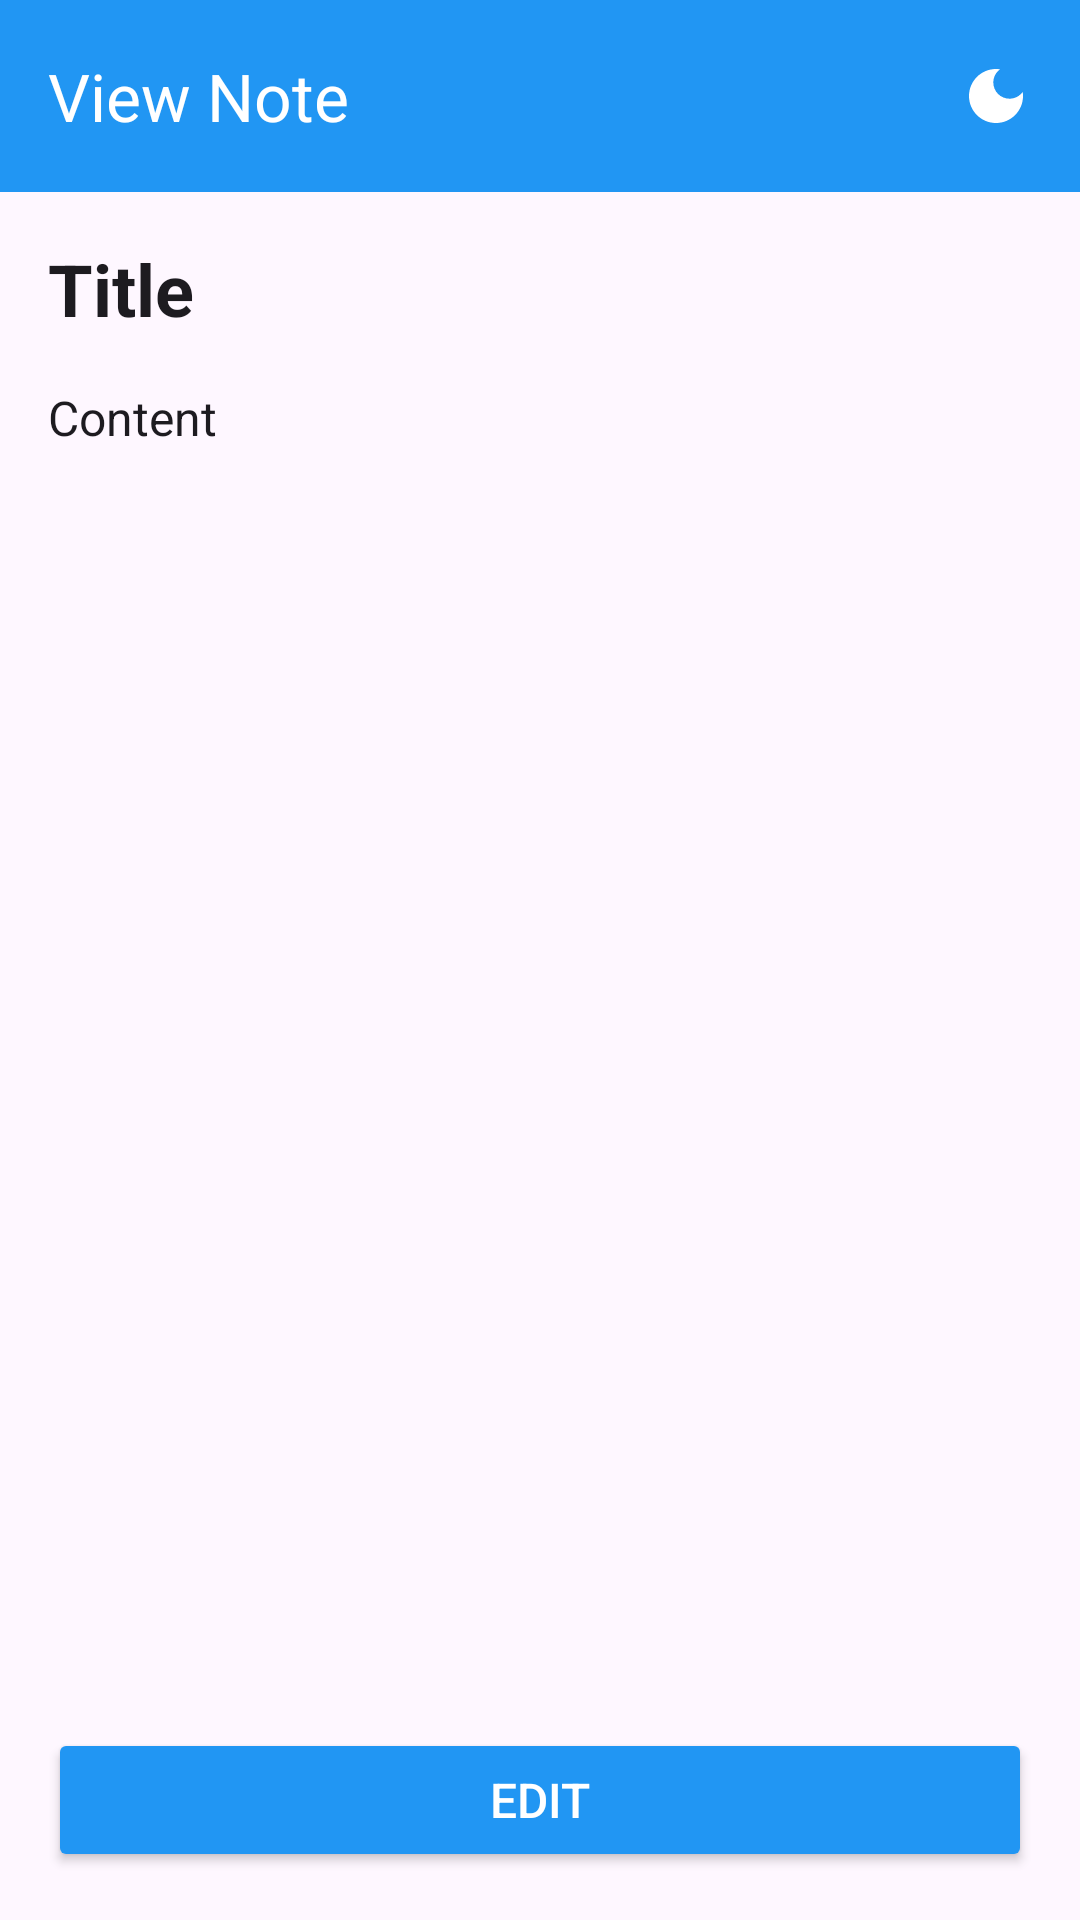

Icons on this 1080w x 1920h Android screen, each with its box as (x1, y1, x2, y2):
Change theme: (969, 69, 1023, 123)
